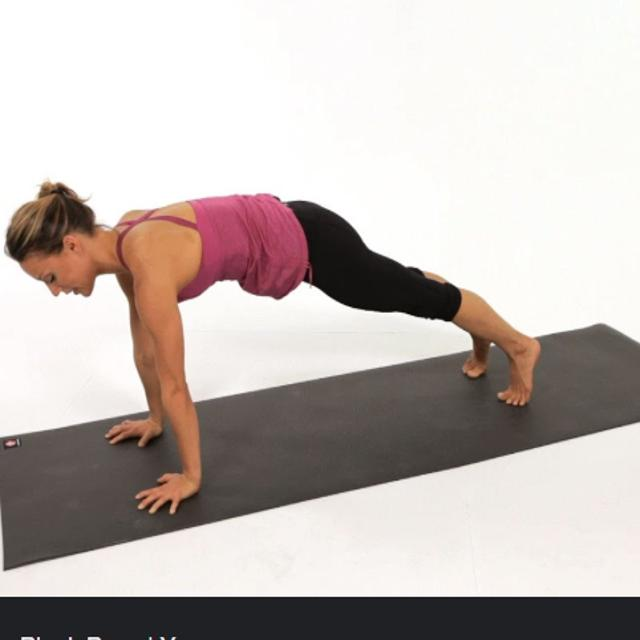Plank_Pose: (7, 181, 547, 528)
